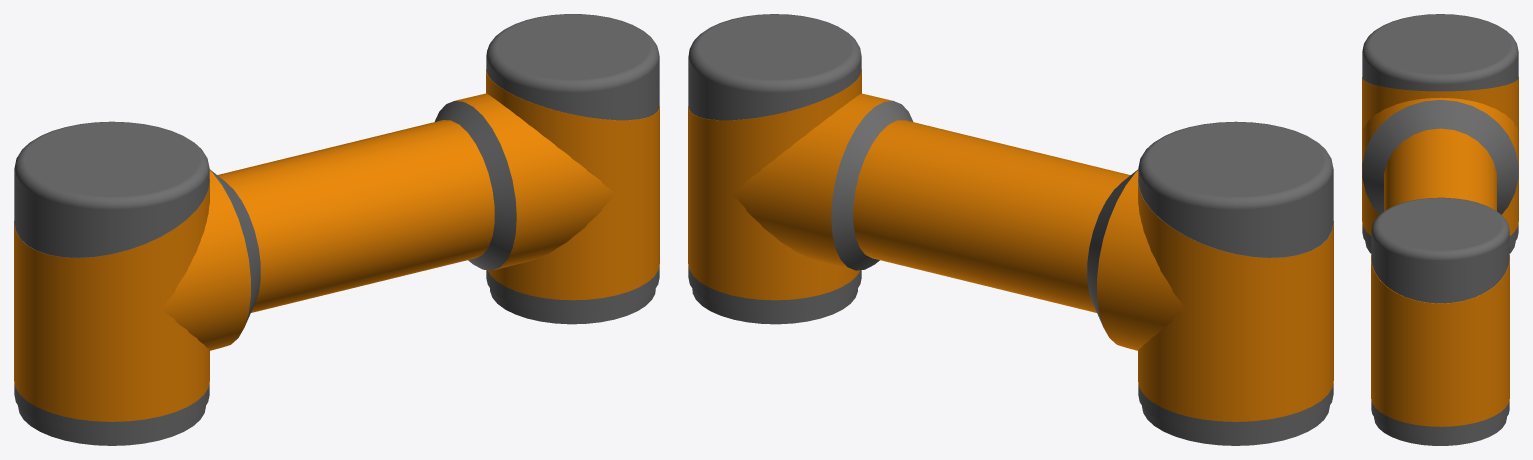
3 renders of one model, left to right at view 1: azimuth 30°, elevation 25°; view 2: azimuth 150°, elevation 25°; view 3: azimuth 270°, elevation 25°, orthographic. The views are drawn at different scales.
Parts seen in each view (by area): view 1: NONE, NONE_ncl1_1, NONE_ncl1_2; view 2: NONE, NONE_ncl1_1, NONE_ncl1_2; view 3: NONE_ncl1_2, NONE, NONE_ncl1_1.
Boxes of the visible parts, box(x1,y1,x2,y2) form: NONE: box(161, 93, 616, 350); NONE_ncl1_1: box(14, 121, 209, 445); NONE_ncl1_2: box(486, 14, 659, 324); NONE: box(732, 93, 1186, 350); NONE_ncl1_1: box(1138, 121, 1333, 445); NONE_ncl1_2: box(688, 14, 861, 324); NONE_ncl1_2: box(1371, 197, 1509, 445); NONE: box(1362, 97, 1518, 214); NONE_ncl1_1: box(1362, 14, 1518, 253).
Bounding box in the file's own units: 0.3585 × 0.098 × 0.136.
